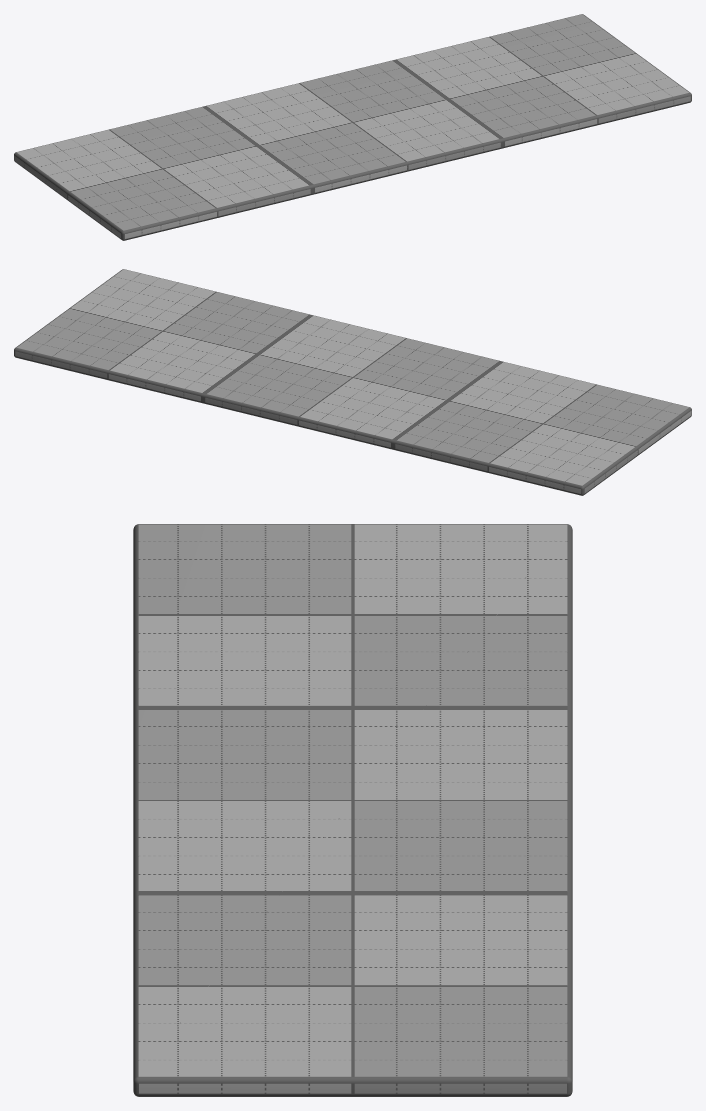
File: Floor3x0x1.fbx
The picture shows the model from 3 angles, top to bottom: view 1: azimuth 30°, elevation 25°; view 2: azimuth 150°, elevation 25°; view 3: azimuth 270°, elevation 25°; orthographic projection. The views are drawn at different scales.
Visible parts, largest first — view 1: Floor3x0x1; view 2: Floor3x0x1; view 3: Floor3x0x1.
Part boxes in pixels (x1=…): Floor3x0x1: x1=14, y1=14, x2=691, y2=240; Floor3x0x1: x1=14, y1=269, x2=691, y2=495; Floor3x0x1: x1=133, y1=524, x2=572, y2=1096.
Bounding box in the file's own units: 300 × 5 × 100.
